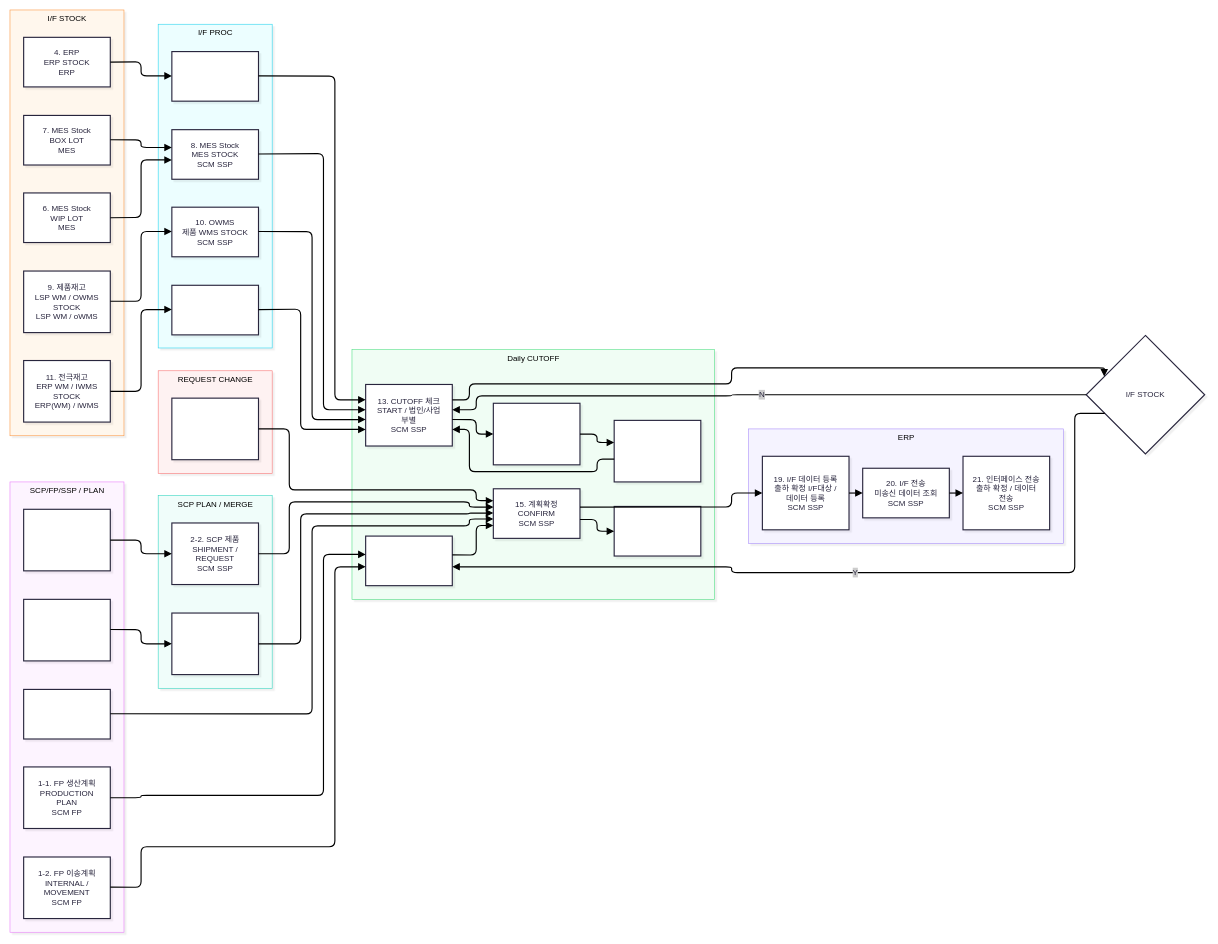
Image size: 1218x944. Some labels were removed from this diagram. Here are the shapes that lost their labels. From the top down, the centre of each, then its label:
[216,77]: 5. ERP STOCK DNM STOCK SCM FP
[216,310]: 12. IWMS 전극 WMS STOCK SCM SSP
[216,429]: 22. 출하 변경 출하확정 변경 / /긴급 출하 발생 SCM SSP
[537,434]: 17. CUTOFF 지연 CUTOFF / 지연 알림 발송 SCM SSP
[658,452]: 18. 장애 대응 I/F 재고 미수신 의사 결정 Off-Line
[68,540]: 2-1. SCP 제품 FINAL VERSION / SEHIPMENT PLAN SCM SCP
[658,532]: 16. 알림 MAIL 음수재고 / MAIL SCM SSP
[410,561]: 14. 출하계획 SHIPMENT PLAN SCM SSP
[68,630]: 2-3. SCP 반제품 FINAL VERSION / SEHIPMENT PLAN SCM SCP
[216,644]: 2-4. SCP 반제품 SHIPMENT / REQUEST SEMI SCM SSP
[68,715]: 3. SSP 출하 계획 북미 Pack 자동수립 SCM SSP
